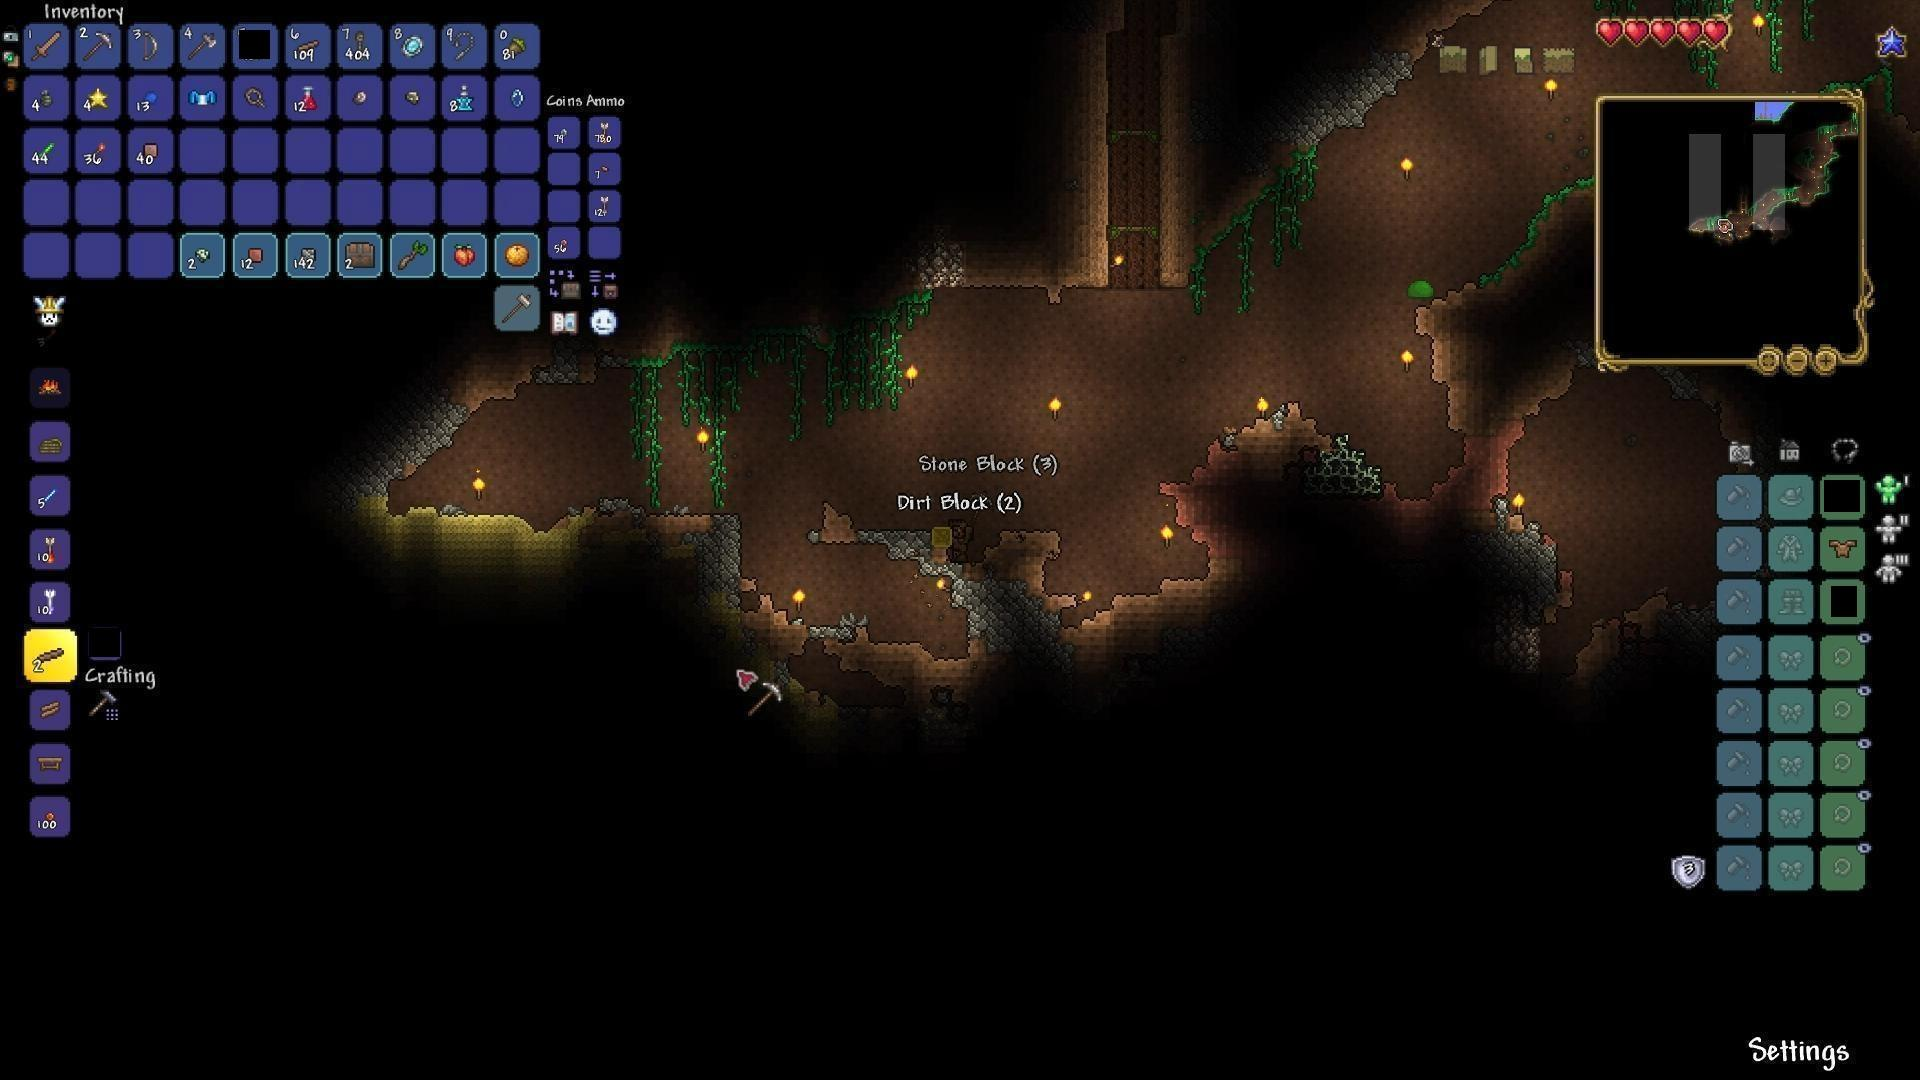breastplate: (1826, 537, 1858, 559)
slime: (1404, 276, 1435, 298)
wood: (37, 695, 67, 724)
workbench: (32, 749, 67, 775)
